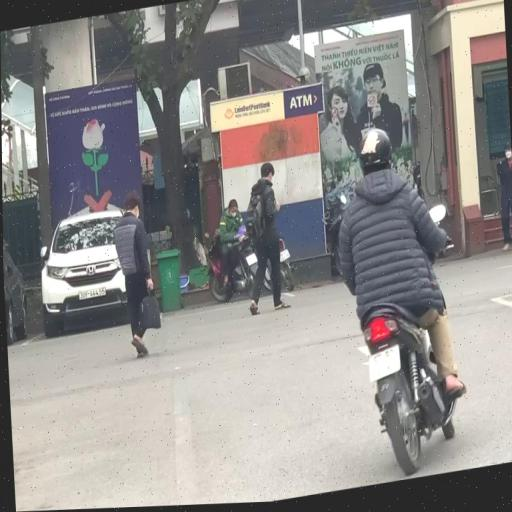bike: (331, 113, 470, 487)
numberplate: (366, 344, 401, 387), (244, 252, 256, 269)
with helmet: (354, 128, 393, 174)
